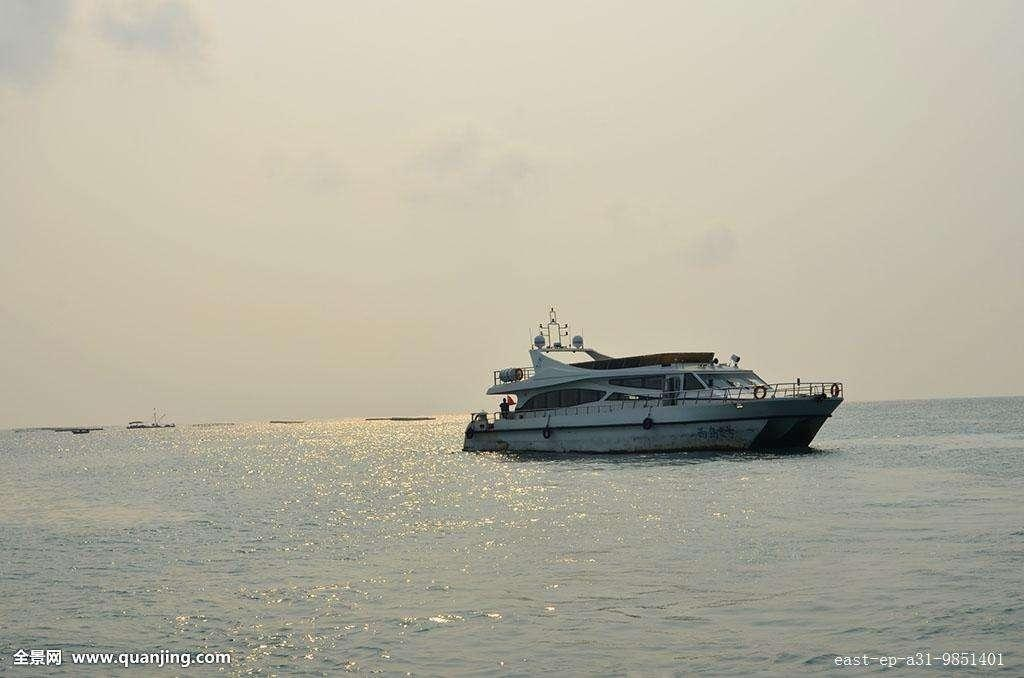yacht: (462, 323, 840, 461)
